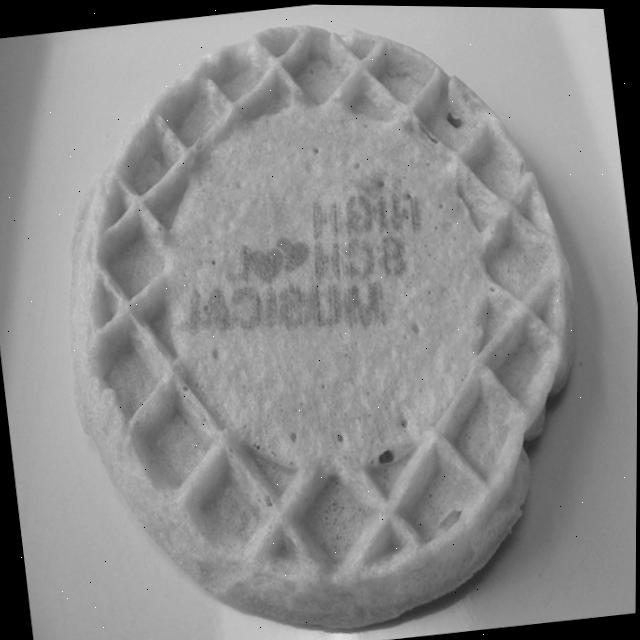炸货点心: (8, 0, 640, 640)
蛋糕甜品: (8, 0, 640, 640)
